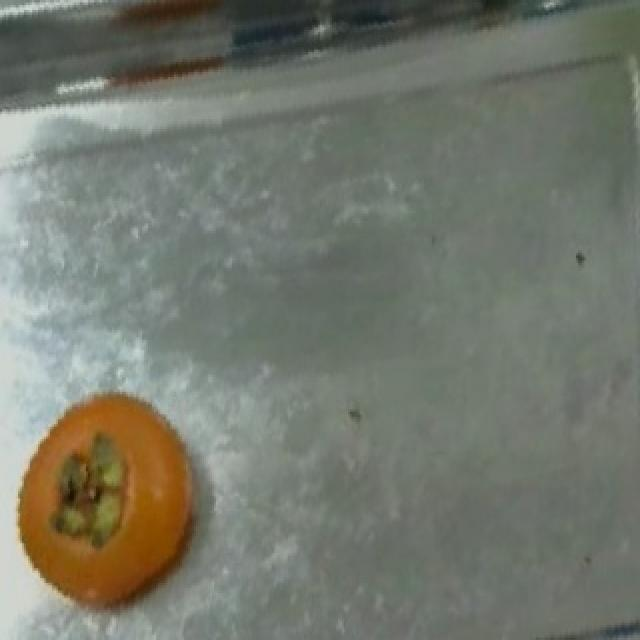Fruit: (0, 374, 218, 638)
